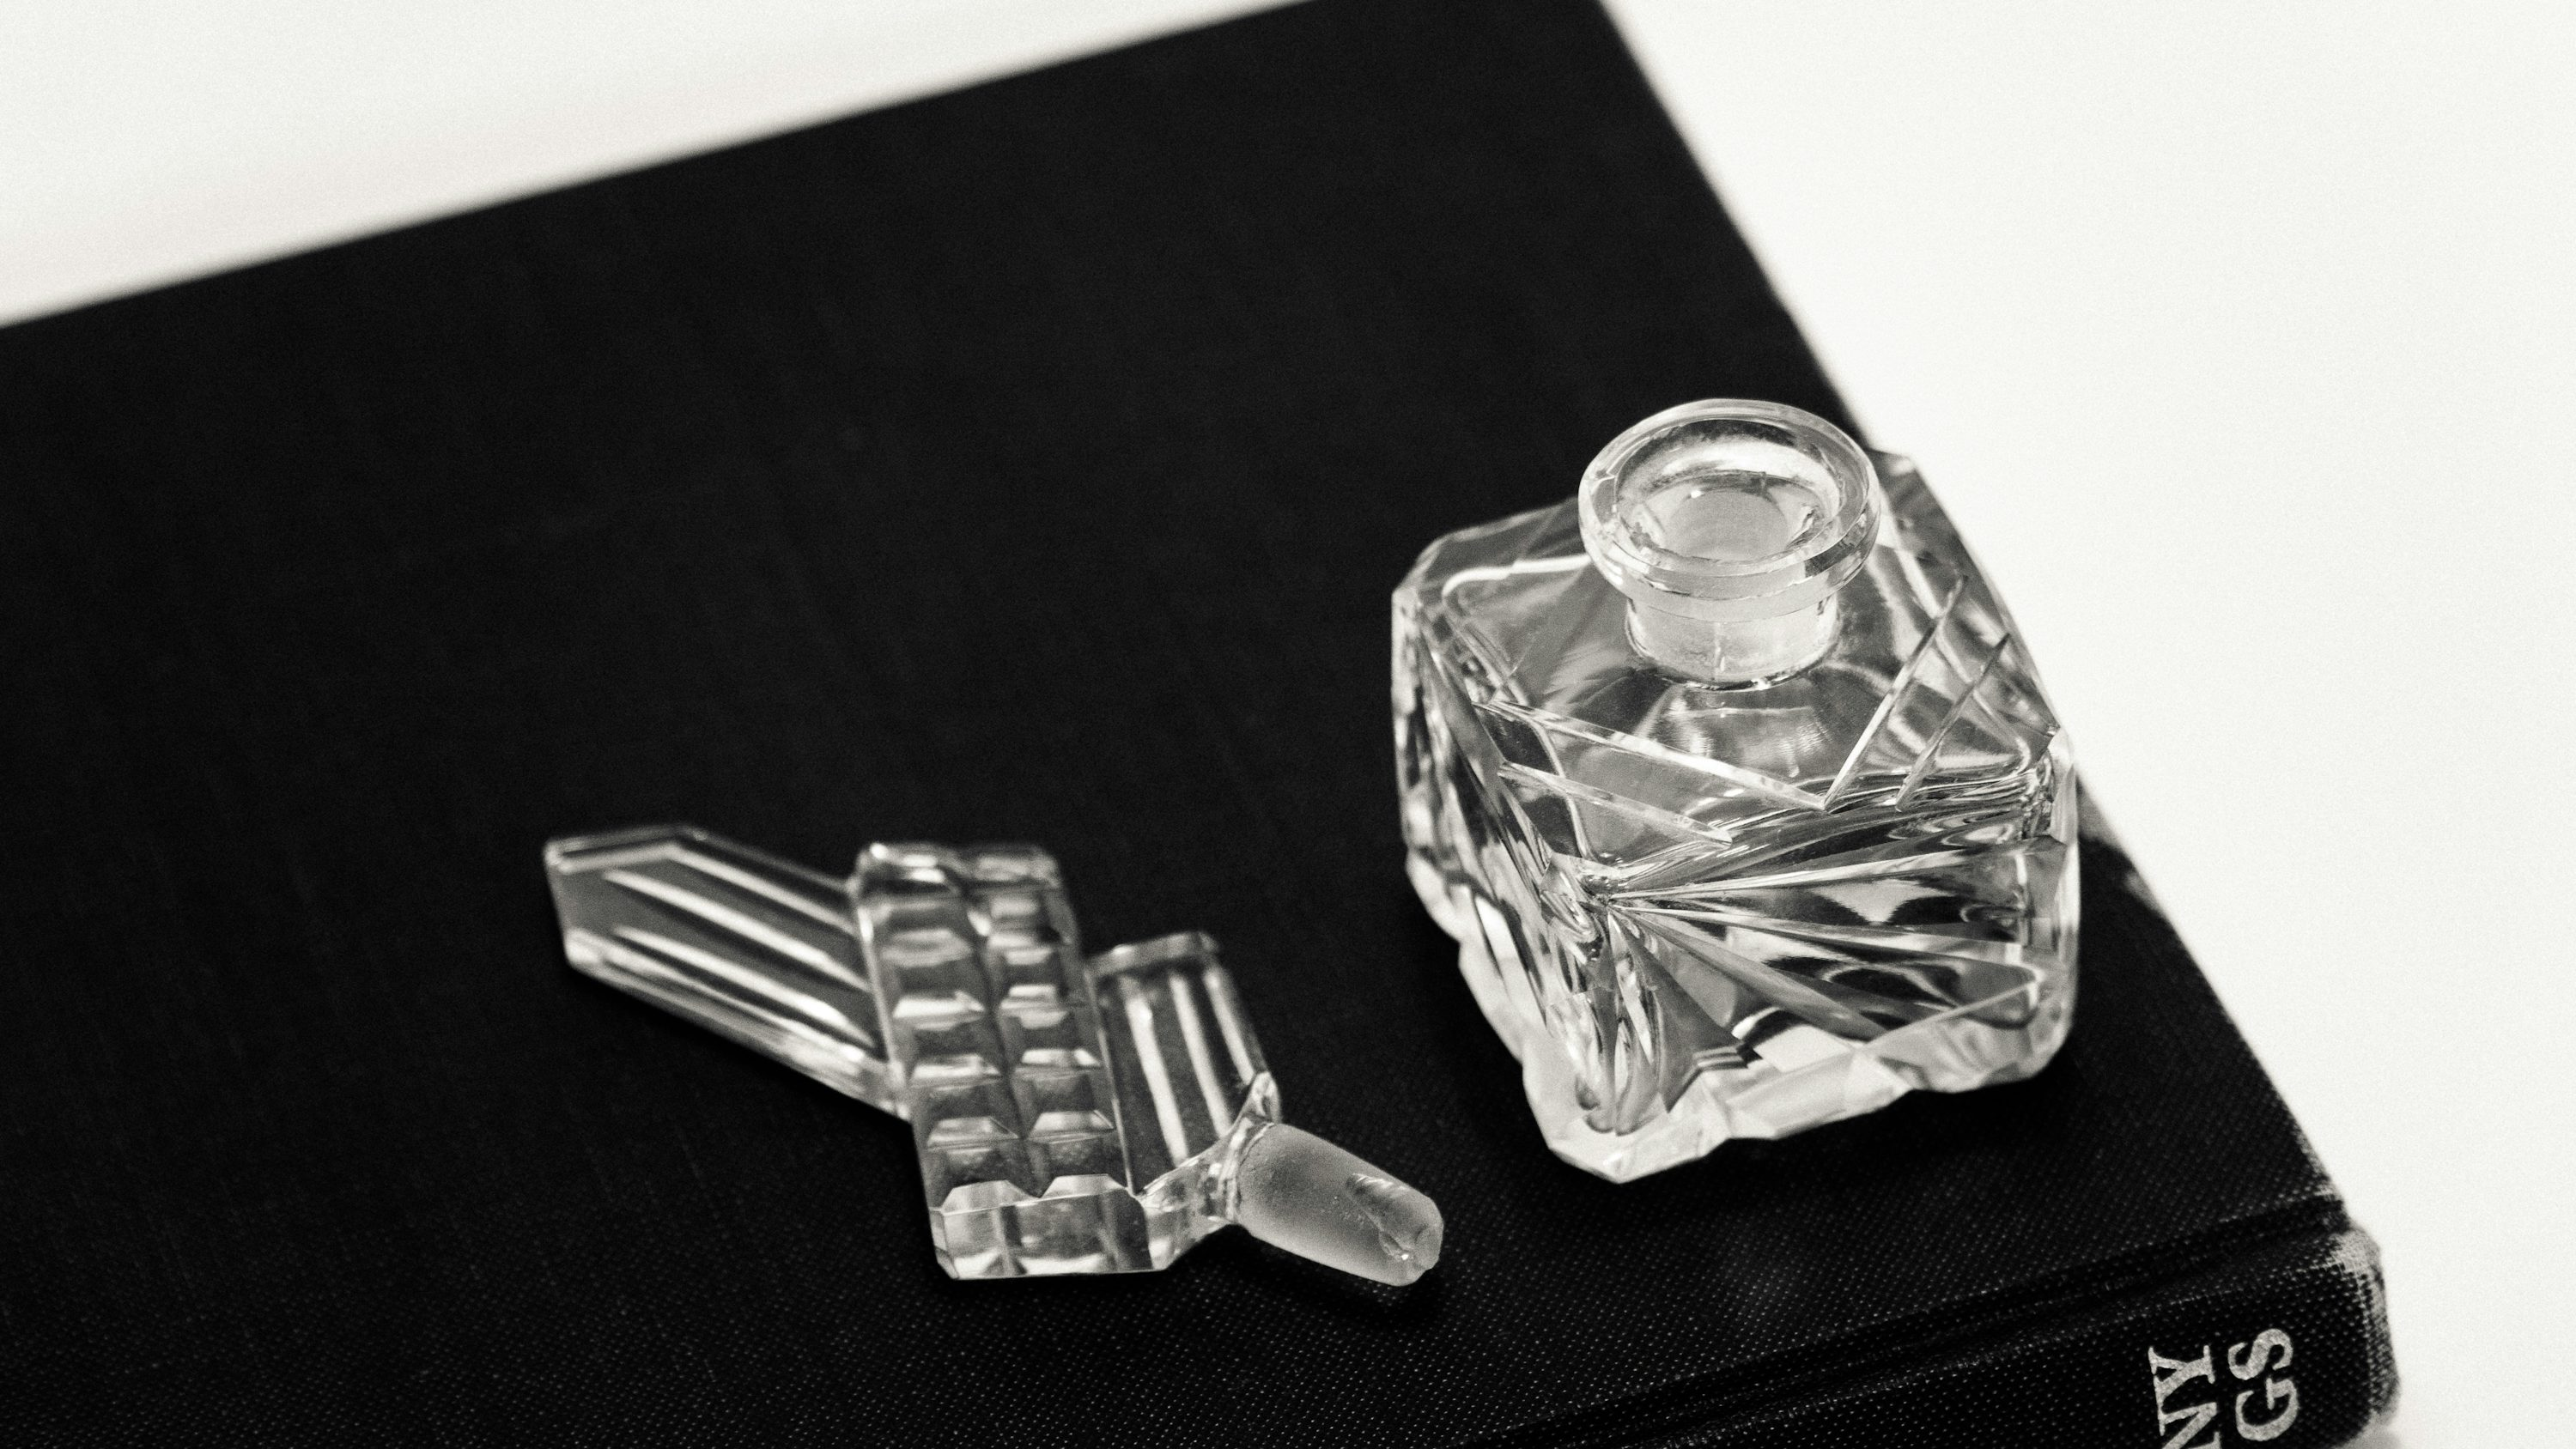glass_bottle: (1339, 368, 2118, 1215)
